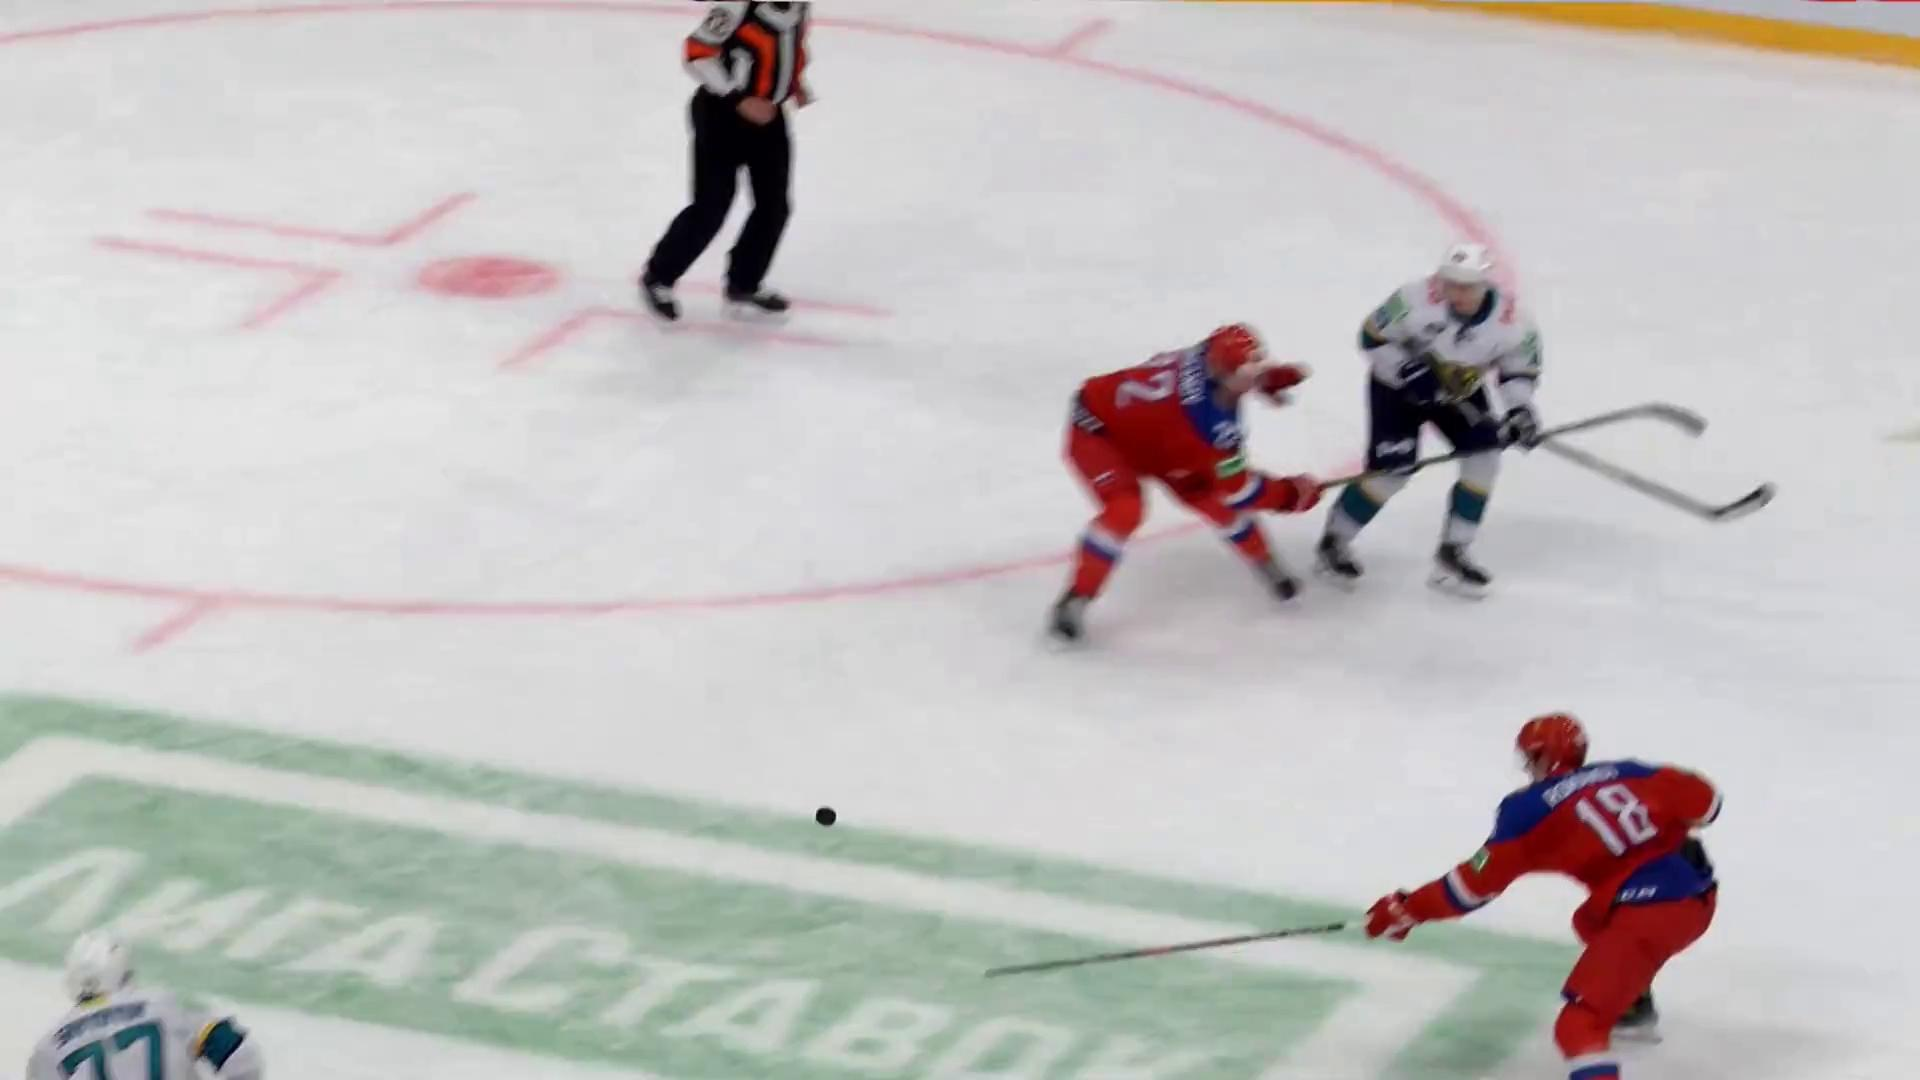ball: (815, 806, 837, 825)
